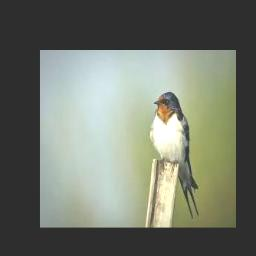Swallow: (149, 92, 200, 219)
